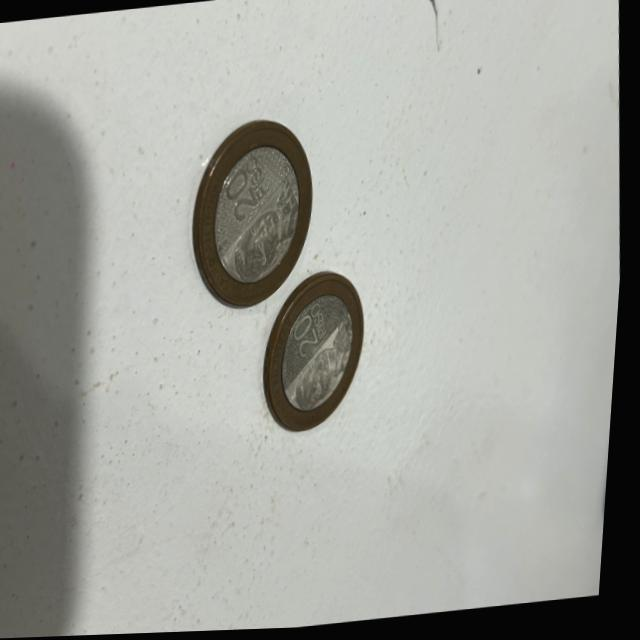20_New_Front: (218, 151, 275, 229), (287, 300, 336, 362)
